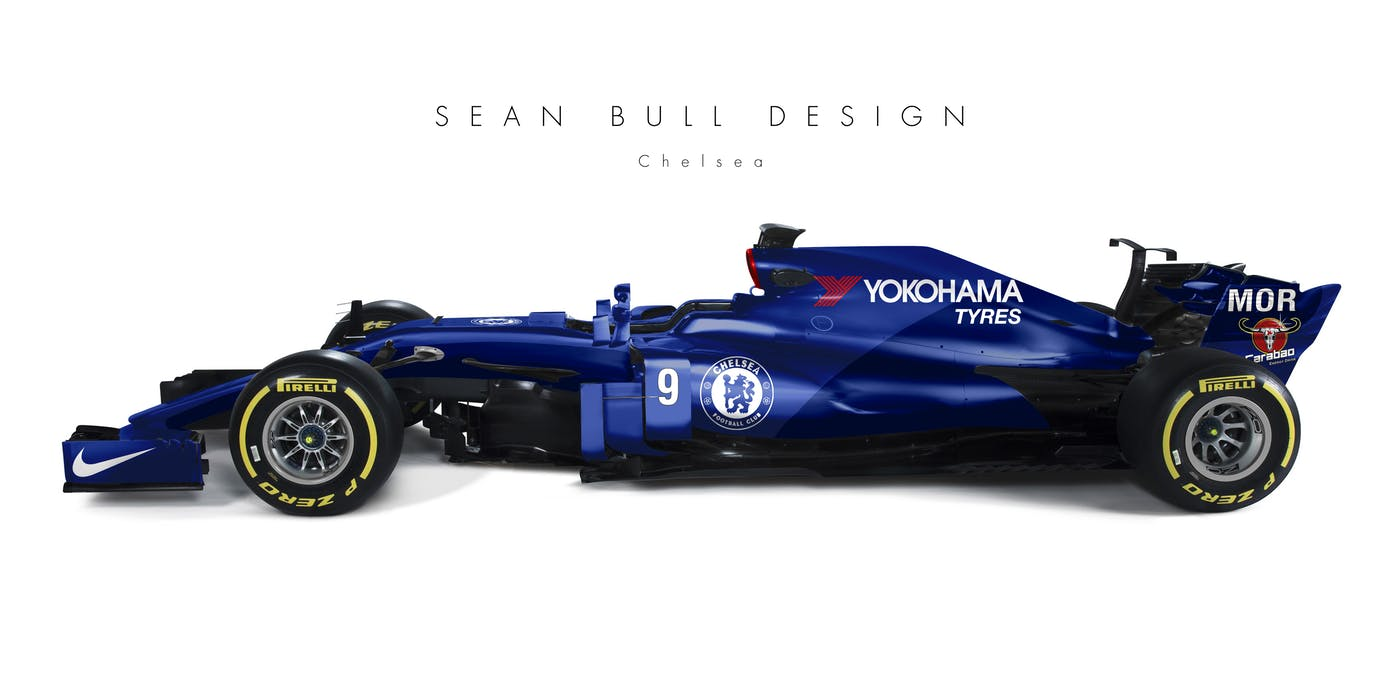f1_car: (52, 200, 1351, 536)
